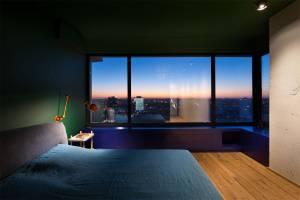window: (87, 52, 269, 125)
